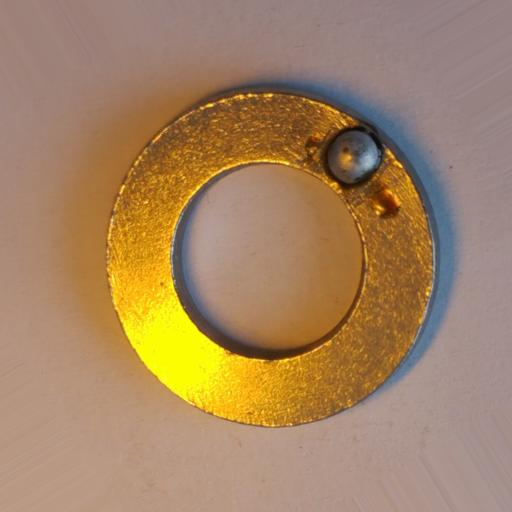excess_material: (321, 126, 386, 188)
